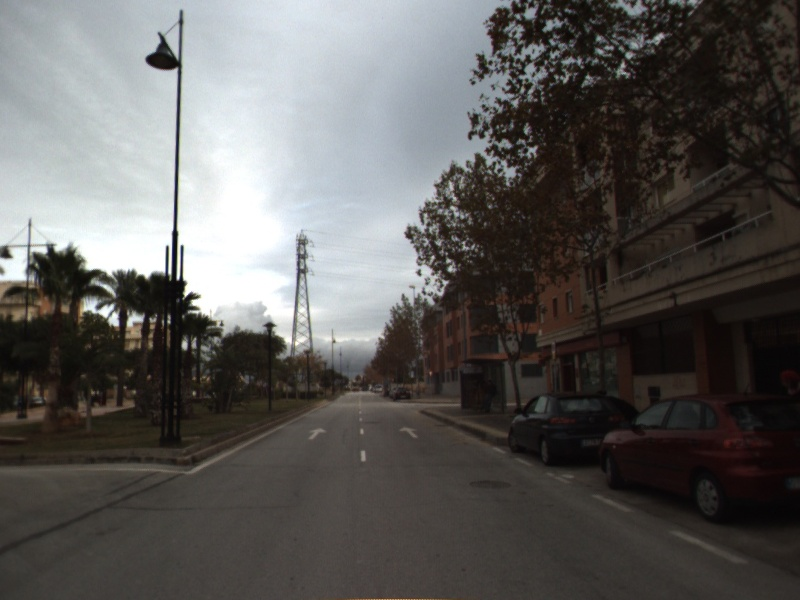STRAIGHT: (397, 424, 420, 440), (306, 425, 329, 441)
